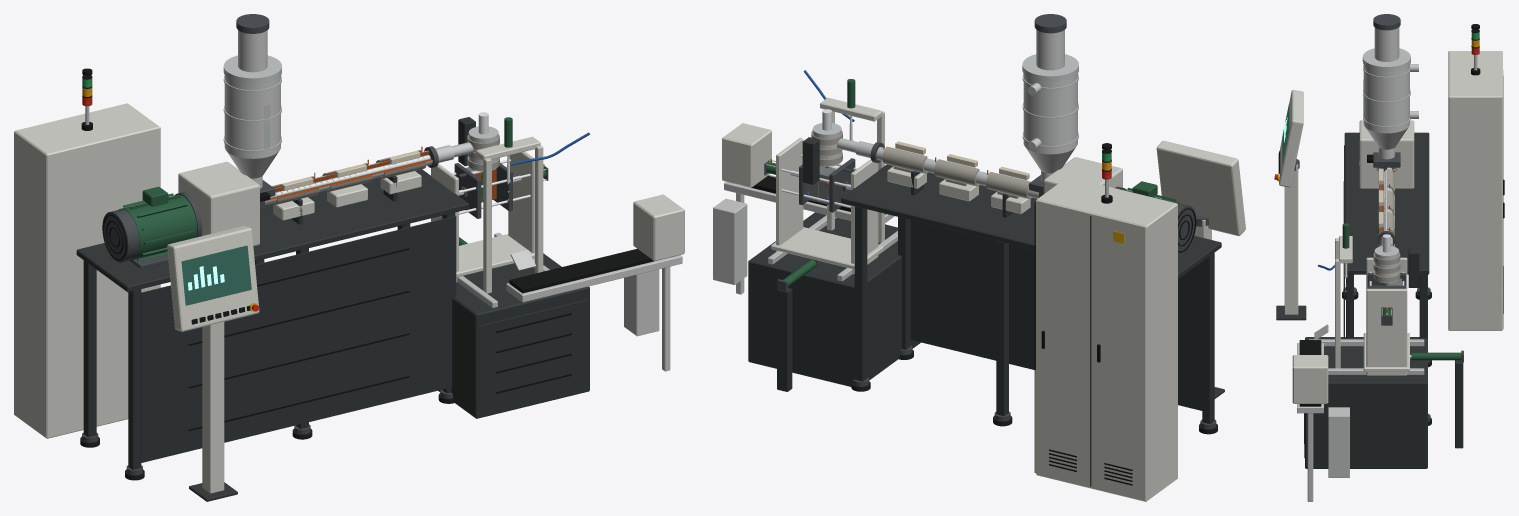
Rendered from blowmolding-motion.glb.
The picture shows the model from 3 angles, left to right: view 1: azimuth 30°, elevation 25°; view 2: azimuth 150°, elevation 25°; view 3: azimuth 270°, elevation 25°; orthographic projection. The views are drawn at different scales.
Parts seen in each view (by area): view 1: Extruder, Control cabinet, ClampBase, ConveyorAndDeflash, Extruder hopper, Operator panel head, ShuttleCarriage_body, Operator panel stand, BlowStation, ParisonHead, MoldLeft_body, MoldRight_body (+1 smaller); view 2: Control cabinet, Extruder, ClampBase, Extruder hopper, ConveyorAndDeflash, ShuttleCarriage_body, Operator panel head, ParisonHead, BlowStation, MoldLeft_body; view 3: Control cabinet, ClampBase, Extruder, Extruder hopper, ConveyorAndDeflash, ShuttleCarriage_body, Operator panel stand, Operator panel head, ParisonHead, BlowStation, Stack light.
Boxes of the visible parts, x1,y1,x2,y2 form: Extruder: (76, 146, 469, 480); Control cabinet: (14, 103, 160, 438); ClampBase: (438, 232, 589, 418); ConveyorAndDeflash: (506, 194, 684, 371); Extruder hopper: (223, 14, 281, 201); Operator panel head: (167, 226, 259, 331); ShuttleCarriage_body: (431, 151, 548, 282); Operator panel stand: (189, 322, 237, 501); BlowStation: (476, 117, 589, 293); ParisonHead: (435, 112, 499, 171); MoldLeft_body: (454, 163, 482, 218); MoldRight_body: (481, 163, 512, 211); Control cabinet: (1034, 177, 1177, 501); Extruder: (841, 141, 1221, 434); ClampBase: (748, 212, 920, 391); Extruder hopper: (1022, 14, 1078, 193); ConveyorAndDeflash: (713, 123, 894, 294); ShuttleCarriage_body: (764, 137, 883, 274); Operator panel head: (1156, 141, 1245, 235); ParisonHead: (802, 109, 873, 184); BlowStation: (803, 70, 884, 242); MoldLeft_body: (818, 158, 855, 212); Control cabinet: (1448, 51, 1504, 330); ClampBase: (1304, 337, 1463, 468); Extruder: (1342, 120, 1431, 425); Extruder hopper: (1362, 14, 1418, 167); ConveyorAndDeflash: (1292, 324, 1349, 501); ShuttleCarriage_body: (1363, 257, 1409, 375); Operator panel stand: (1276, 159, 1306, 320); Operator panel head: (1274, 90, 1303, 187); ParisonHead: (1373, 234, 1419, 287); BlowStation: (1317, 223, 1352, 368); Stack light: (1471, 24, 1480, 75).
Size of the model in its own units: 3.8 by 2.7 by 1.69.
